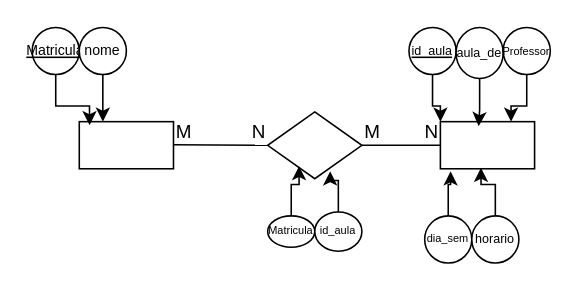
This 578x290 diagram has some shape labels left out. The shapes that lost their labels are listed below. From the top down, each one's box as (x1, y1, x2, y2) in pixels, then its label:
(78, 120, 173, 169): Aluno
(266, 110, 362, 179): Frequenta
(439, 120, 535, 169): Aula
